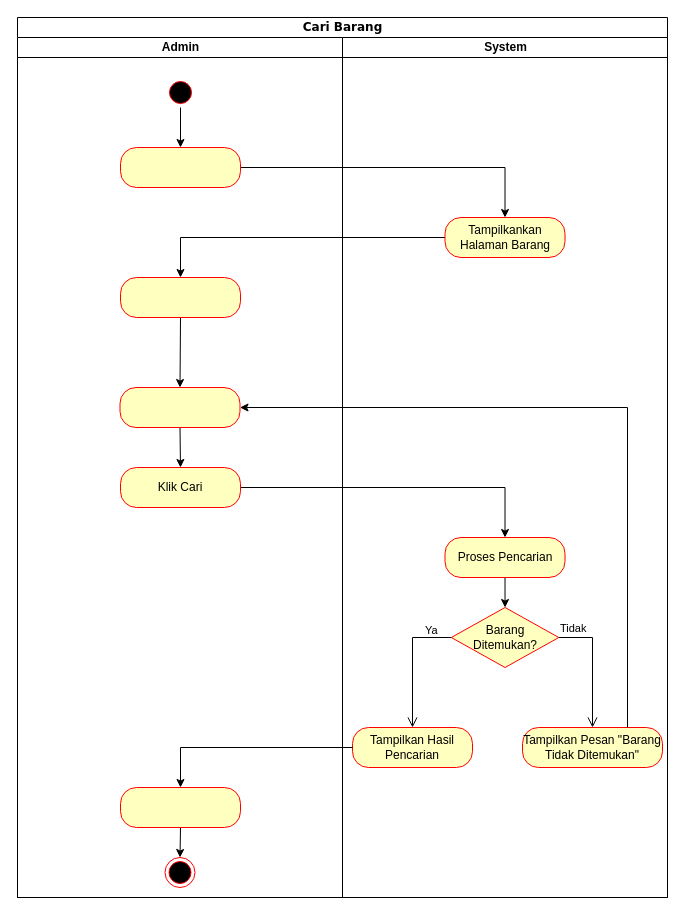
Image size: 685x915. Some labels were removed from this diagram. The centre of each missing label's shape, as x and y in pixels:
"Lihat Daftar Barang" goes at (180,297).
"Lihat Hasil Pencarian" goes at (180,807).
"Masukkan Kata Kunci" goes at (179,407).
"Pilih Menu Barang" goes at (180,167).
